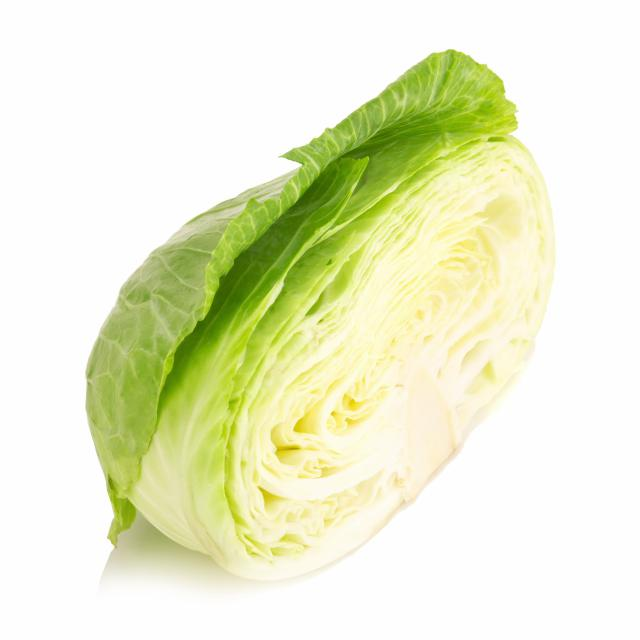cabbage: (78, 46, 560, 590)
